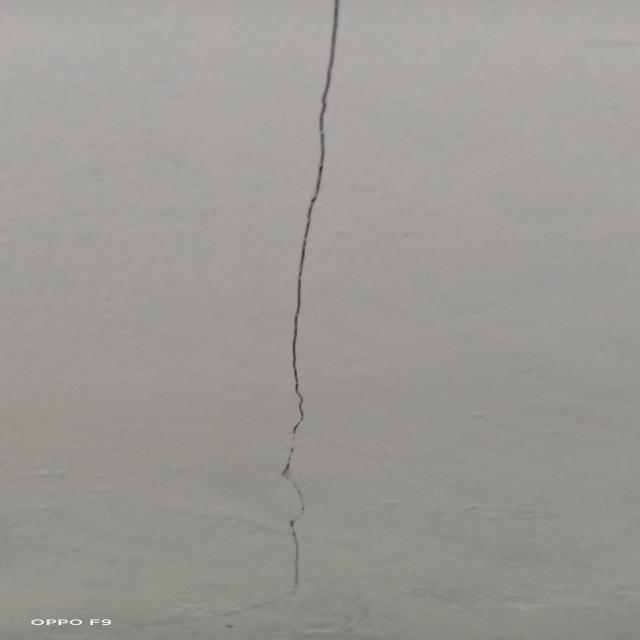Crack: (270, 1, 395, 614), (244, 441, 339, 609), (292, 2, 369, 106), (281, 115, 347, 234), (283, 246, 328, 358), (268, 366, 322, 438)
